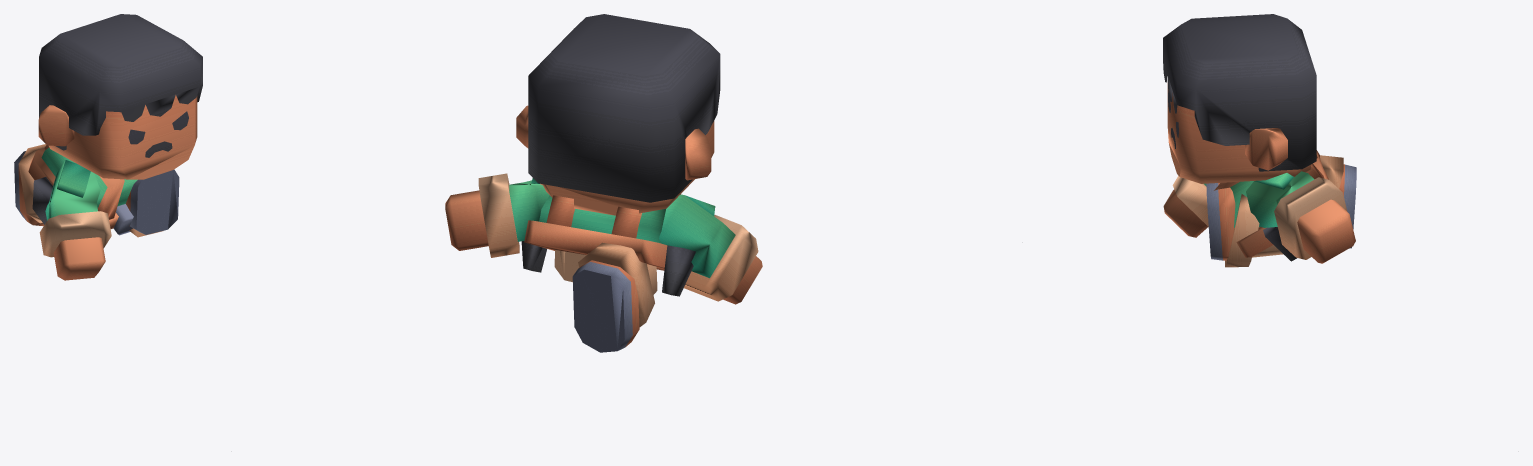
Rendered from crowdA_sprint_2.glb.
The picture shows the model from 3 angles, left to right: view 1: azimuth 30°, elevation 25°; view 2: azimuth 150°, elevation 25°; view 3: azimuth 270°, elevation 25°; orthographic projection. The views are drawn at different scales.
Visible parts, largest first — view 1: crowdA-sprint-2; view 2: crowdA-sprint-2; view 3: crowdA-sprint-2.
Part boxes in pixels (box(x1,y1,x2,y2)): crowdA-sprint-2: box(14, 14, 202, 280); crowdA-sprint-2: box(445, 14, 762, 352); crowdA-sprint-2: box(1163, 14, 1356, 267).
Bounding box in the file's own units: 1.2 × 0.8301 × 1.2.
1 material, 1 textured.
